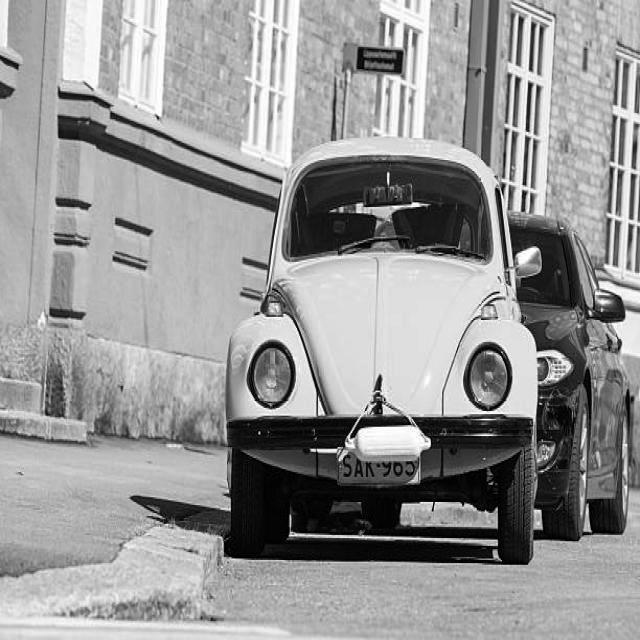car: (225, 138, 538, 555), (457, 190, 640, 525)
